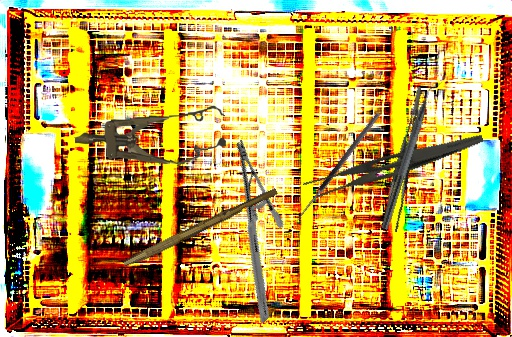Chopper: (380, 77, 445, 234)
Dressing Forceps: (301, 114, 485, 209)
Hook Surgical: (293, 111, 387, 228)
Needle Holder: (166, 138, 339, 324)
Scalpel Handle: (122, 184, 279, 272)
Speculum: (73, 103, 227, 170)
Tissue Forceps: (368, 86, 446, 233)
